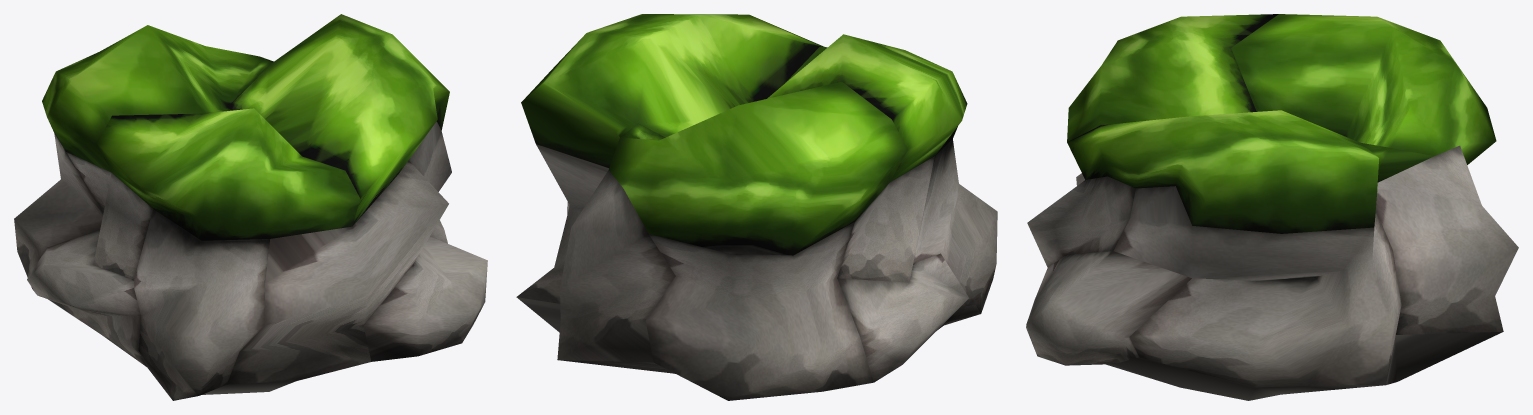
Rendered from rock_mossy_5m.DAE.
The picture shows the model from 3 angles, left to right: view 1: azimuth 30°, elevation 25°; view 2: azimuth 150°, elevation 25°; view 3: azimuth 270°, elevation 25°; orthographic projection. The views are drawn at different scales.
Visible parts, largest first — view 1: Box01; view 2: Box01; view 3: Box01.
Part boxes in pixels (<box>): Box01: <box>14,14,487,400</box>; Box01: <box>516,14,997,400</box>; Box01: <box>1026,14,1518,400</box>.
Bounding box in the file's own units: 7.17 × 5.29 × 7.73.
